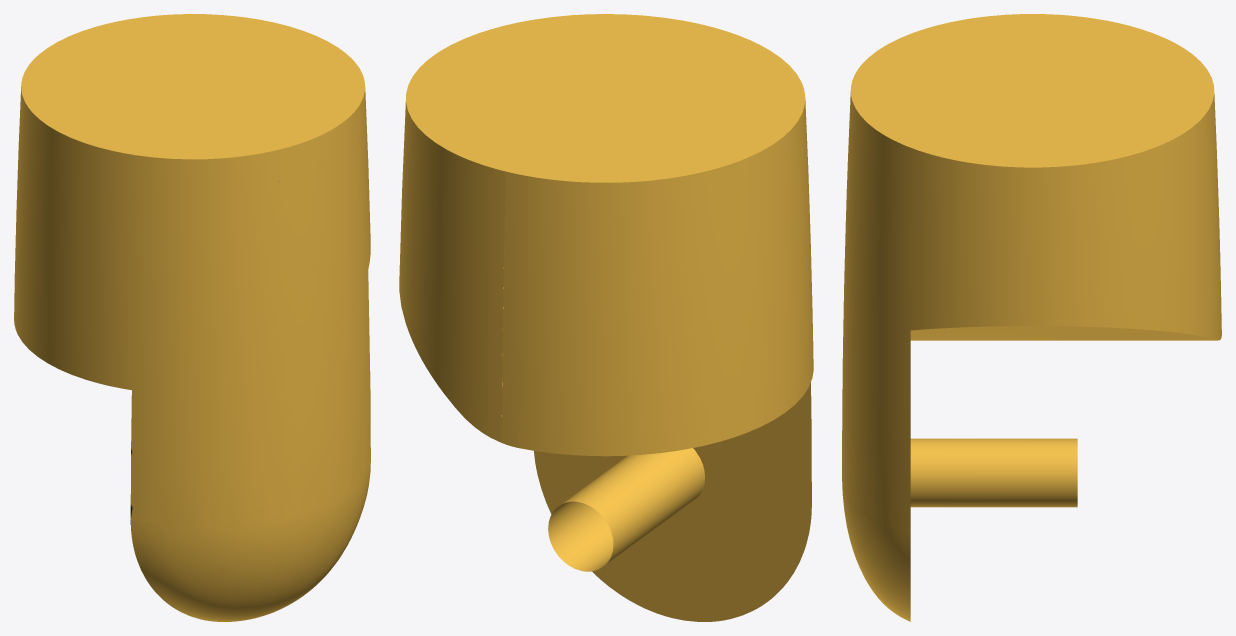
The model's file is armr2.obj.
The picture shows the model from 3 angles, left to right: view 1: azimuth 30°, elevation 25°; view 2: azimuth 150°, elevation 25°; view 3: azimuth 270°, elevation 25°; orthographic projection. The views are drawn at different scales.
Visible parts, largest first — view 1: arml2_005-mesh; view 2: arml2_005-mesh; view 3: arml2_005-mesh.
Part boxes in pixels (left/top/right/bottom): arml2_005-mesh: left=14, top=14, right=370, bottom=621; arml2_005-mesh: left=399, top=14, right=813, bottom=621; arml2_005-mesh: left=842, top=14, right=1221, bottom=621.
Size of the model in its own units: 0.1099 by 0.1665 by 0.1108.
1 material, 1 textured.
